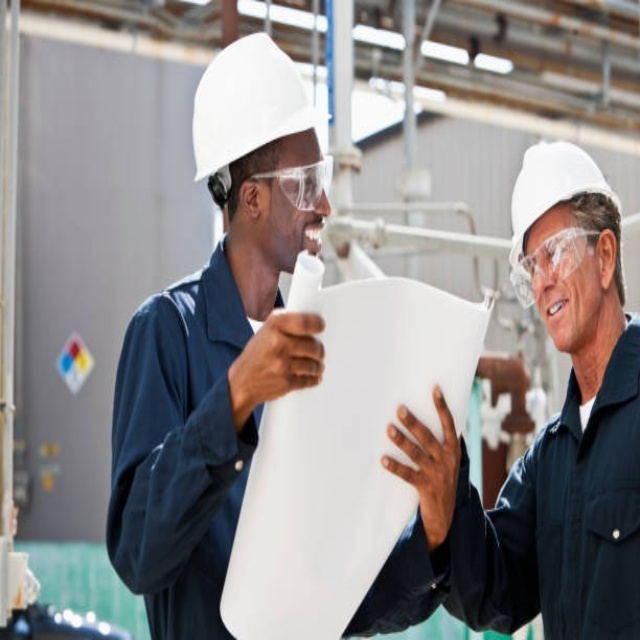Gafas: (512, 226, 600, 310), (249, 157, 334, 211)
Sin_guantes: (381, 382, 462, 544), (246, 306, 326, 408)
Sin_mascara: (543, 293, 578, 347), (296, 218, 329, 254)
